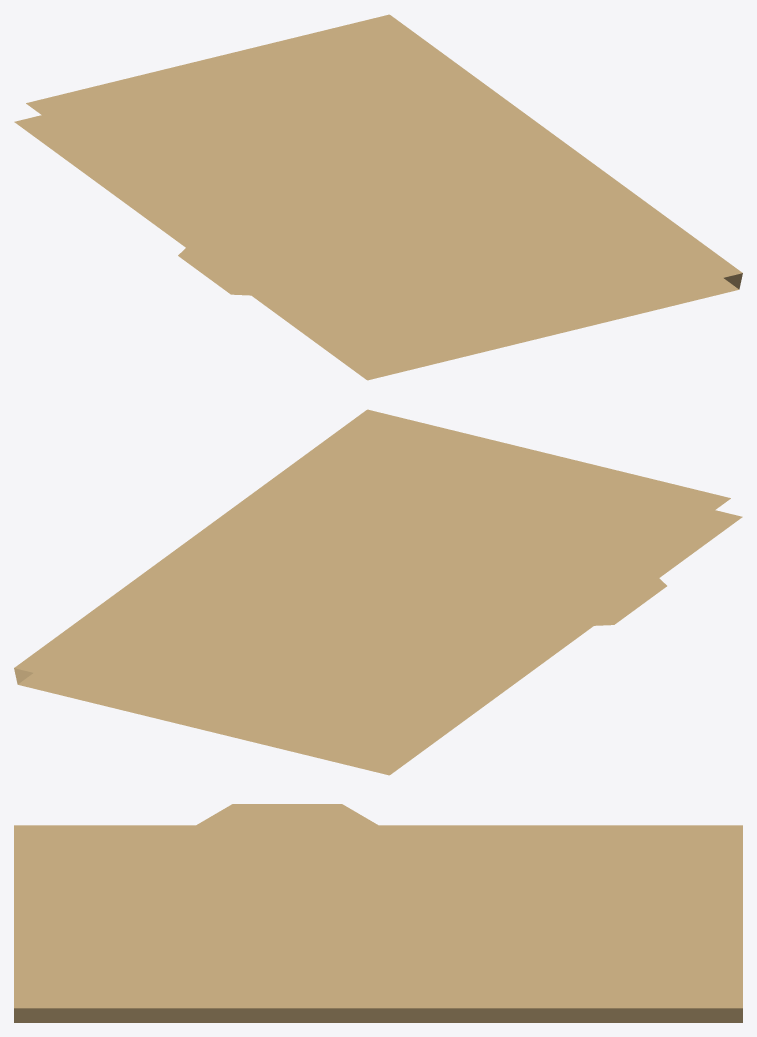
The picture shows the model from 3 angles, top to bottom: view 1: azimuth 30°, elevation 25°; view 2: azimuth 150°, elevation 25°; view 3: azimuth 270°, elevation 25°; orthographic projection. The views are drawn at different scales.
Visible parts, largest first — view 1: Folder; view 2: Folder; view 3: Folder.
Boxes of the visible parts, x1=… form: Folder: x1=14, y1=14, x2=742, y2=380; Folder: x1=14, y1=409, x2=742, y2=775; Folder: x1=14, y1=804, x2=742, y2=1022.
Bounding box in the file's own units: 0.9762 × 0.0362 × 1.47.
